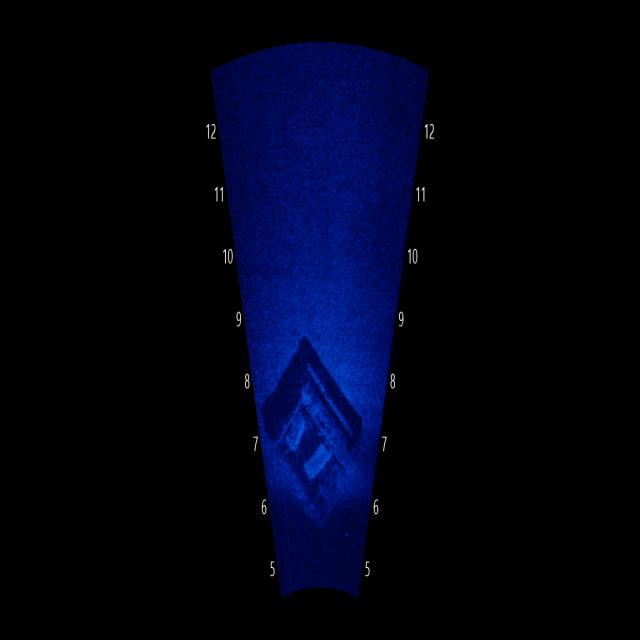square: (264, 348, 369, 526)
